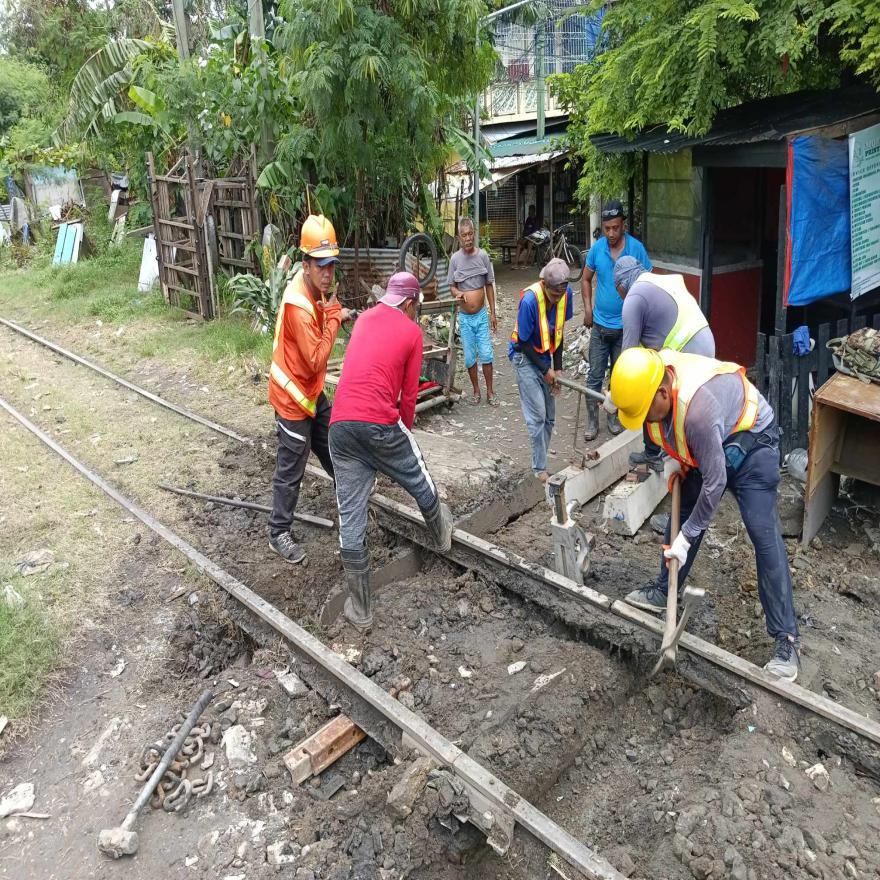railway-gap: (430, 720, 489, 796), (591, 574, 632, 630)
